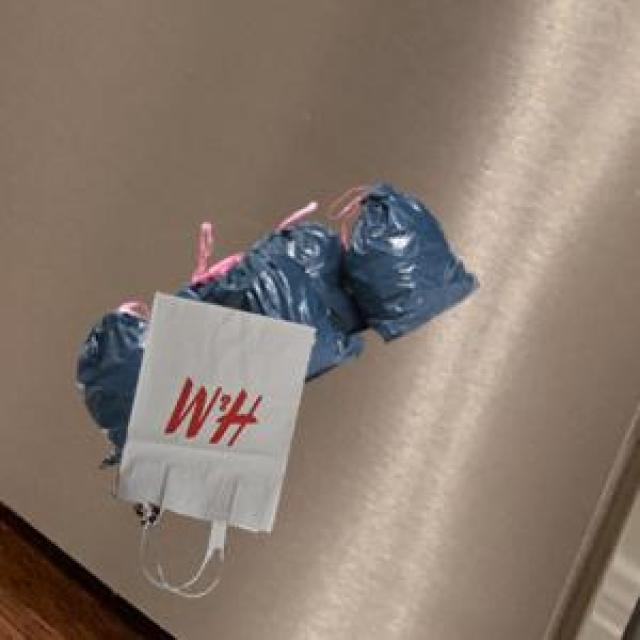miscellaneous trash: (73, 179, 476, 465)
paper: (109, 288, 312, 563)
